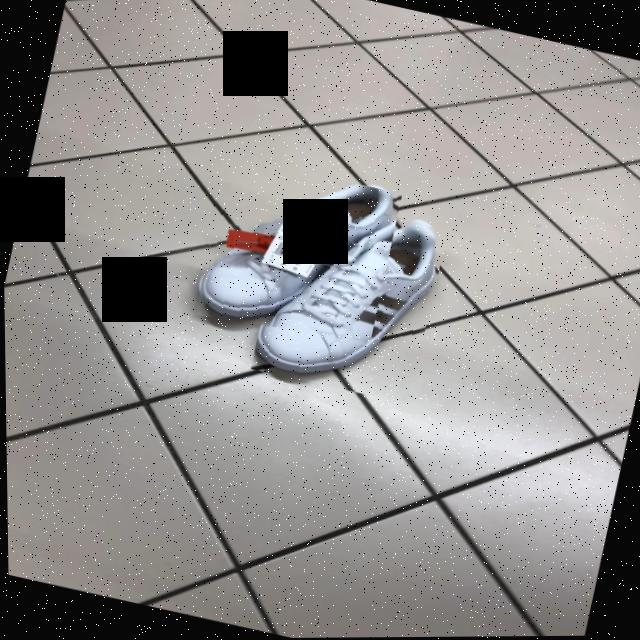shoe: (253, 223, 437, 380), (199, 185, 396, 322)
